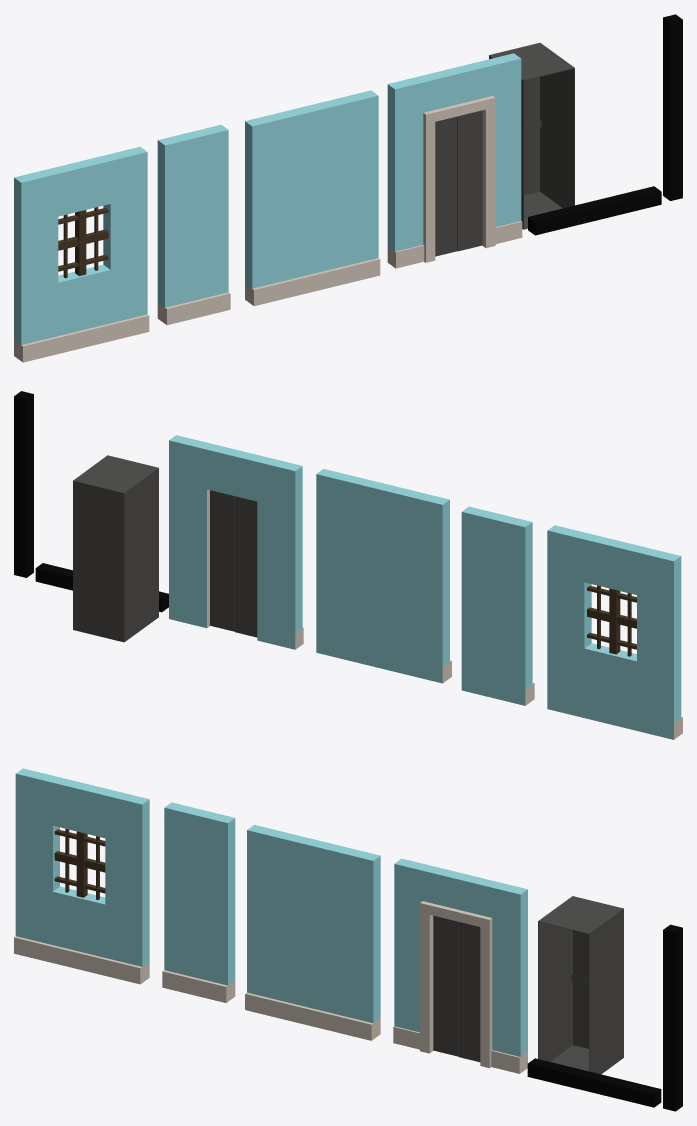
The model's file is Block.FBX.
3 views of the same model, one above another, from view 1: azimuth 30°, elevation 25°; view 2: azimuth 150°, elevation 25°; view 3: azimuth 330°, elevation 25° (orthographic).
Parts seen in each view (by area): view 1: Normal_2M, Window_2M, Elevator_2M, Normal_1M, Object001, Floor001, Door_Right, Door_Left, Floor; view 2: Normal_2M, Window_2M, Elevator_2M, Object001, Normal_1M, Floor001, Door_Right, Door_Left, Floor; view 3: Normal_2M, Window_2M, Elevator_2M, Object001, Normal_1M, Floor001, Door_Left, Door_Right, Floor.
Part boxes in pixels (left/top/right/bottom): Normal_2M: left=245, top=90, right=380, bottom=306; Window_2M: left=14, top=146, right=149, bottom=362; Elevator_2M: left=387, top=53, right=522, bottom=268; Normal_1M: left=157, top=124, right=230, bottom=325; Object001: left=489, top=42, right=574, bottom=229; Floor001: left=663, top=14, right=682, bottom=200; Door_Right: left=457, top=110, right=482, bottom=251; Door_Left: left=435, top=116, right=456, bottom=256; Floor: left=528, top=186, right=661, bottom=235; Normal_2M: left=316, top=469, right=451, bottom=683; Window_2M: left=547, top=525, right=682, bottom=739; Elevator_2M: left=169, top=435, right=303, bottom=649; Object001: left=73, top=455, right=158, bottom=642; Normal_1M: left=461, top=506, right=534, bottom=705; Floor001: left=14, top=391, right=33, bottom=577; Door_Right: left=210, top=490, right=234, bottom=631; Door_Left: left=235, top=496, right=257, bottom=637; Floor: left=35, top=563, right=168, bottom=612; Normal_2M: left=245, top=825, right=380, bottom=1040; Window_2M: left=14, top=768, right=149, bottom=984; Elevator_2M: left=393, top=858, right=527, bottom=1073; Object001: left=538, top=896, right=623, bottom=1074; Normal_1M: left=162, top=802, right=235, bottom=1002; Floor001: left=663, top=924, right=682, bottom=1111; Door_Left: left=433, top=915, right=458, bottom=1056; Door_Right: left=458, top=922, right=480, bottom=1062; Floor: left=527, top=1058, right=661, bottom=1107.
Size of the model in its own units: 1046 by 275 by 127.
